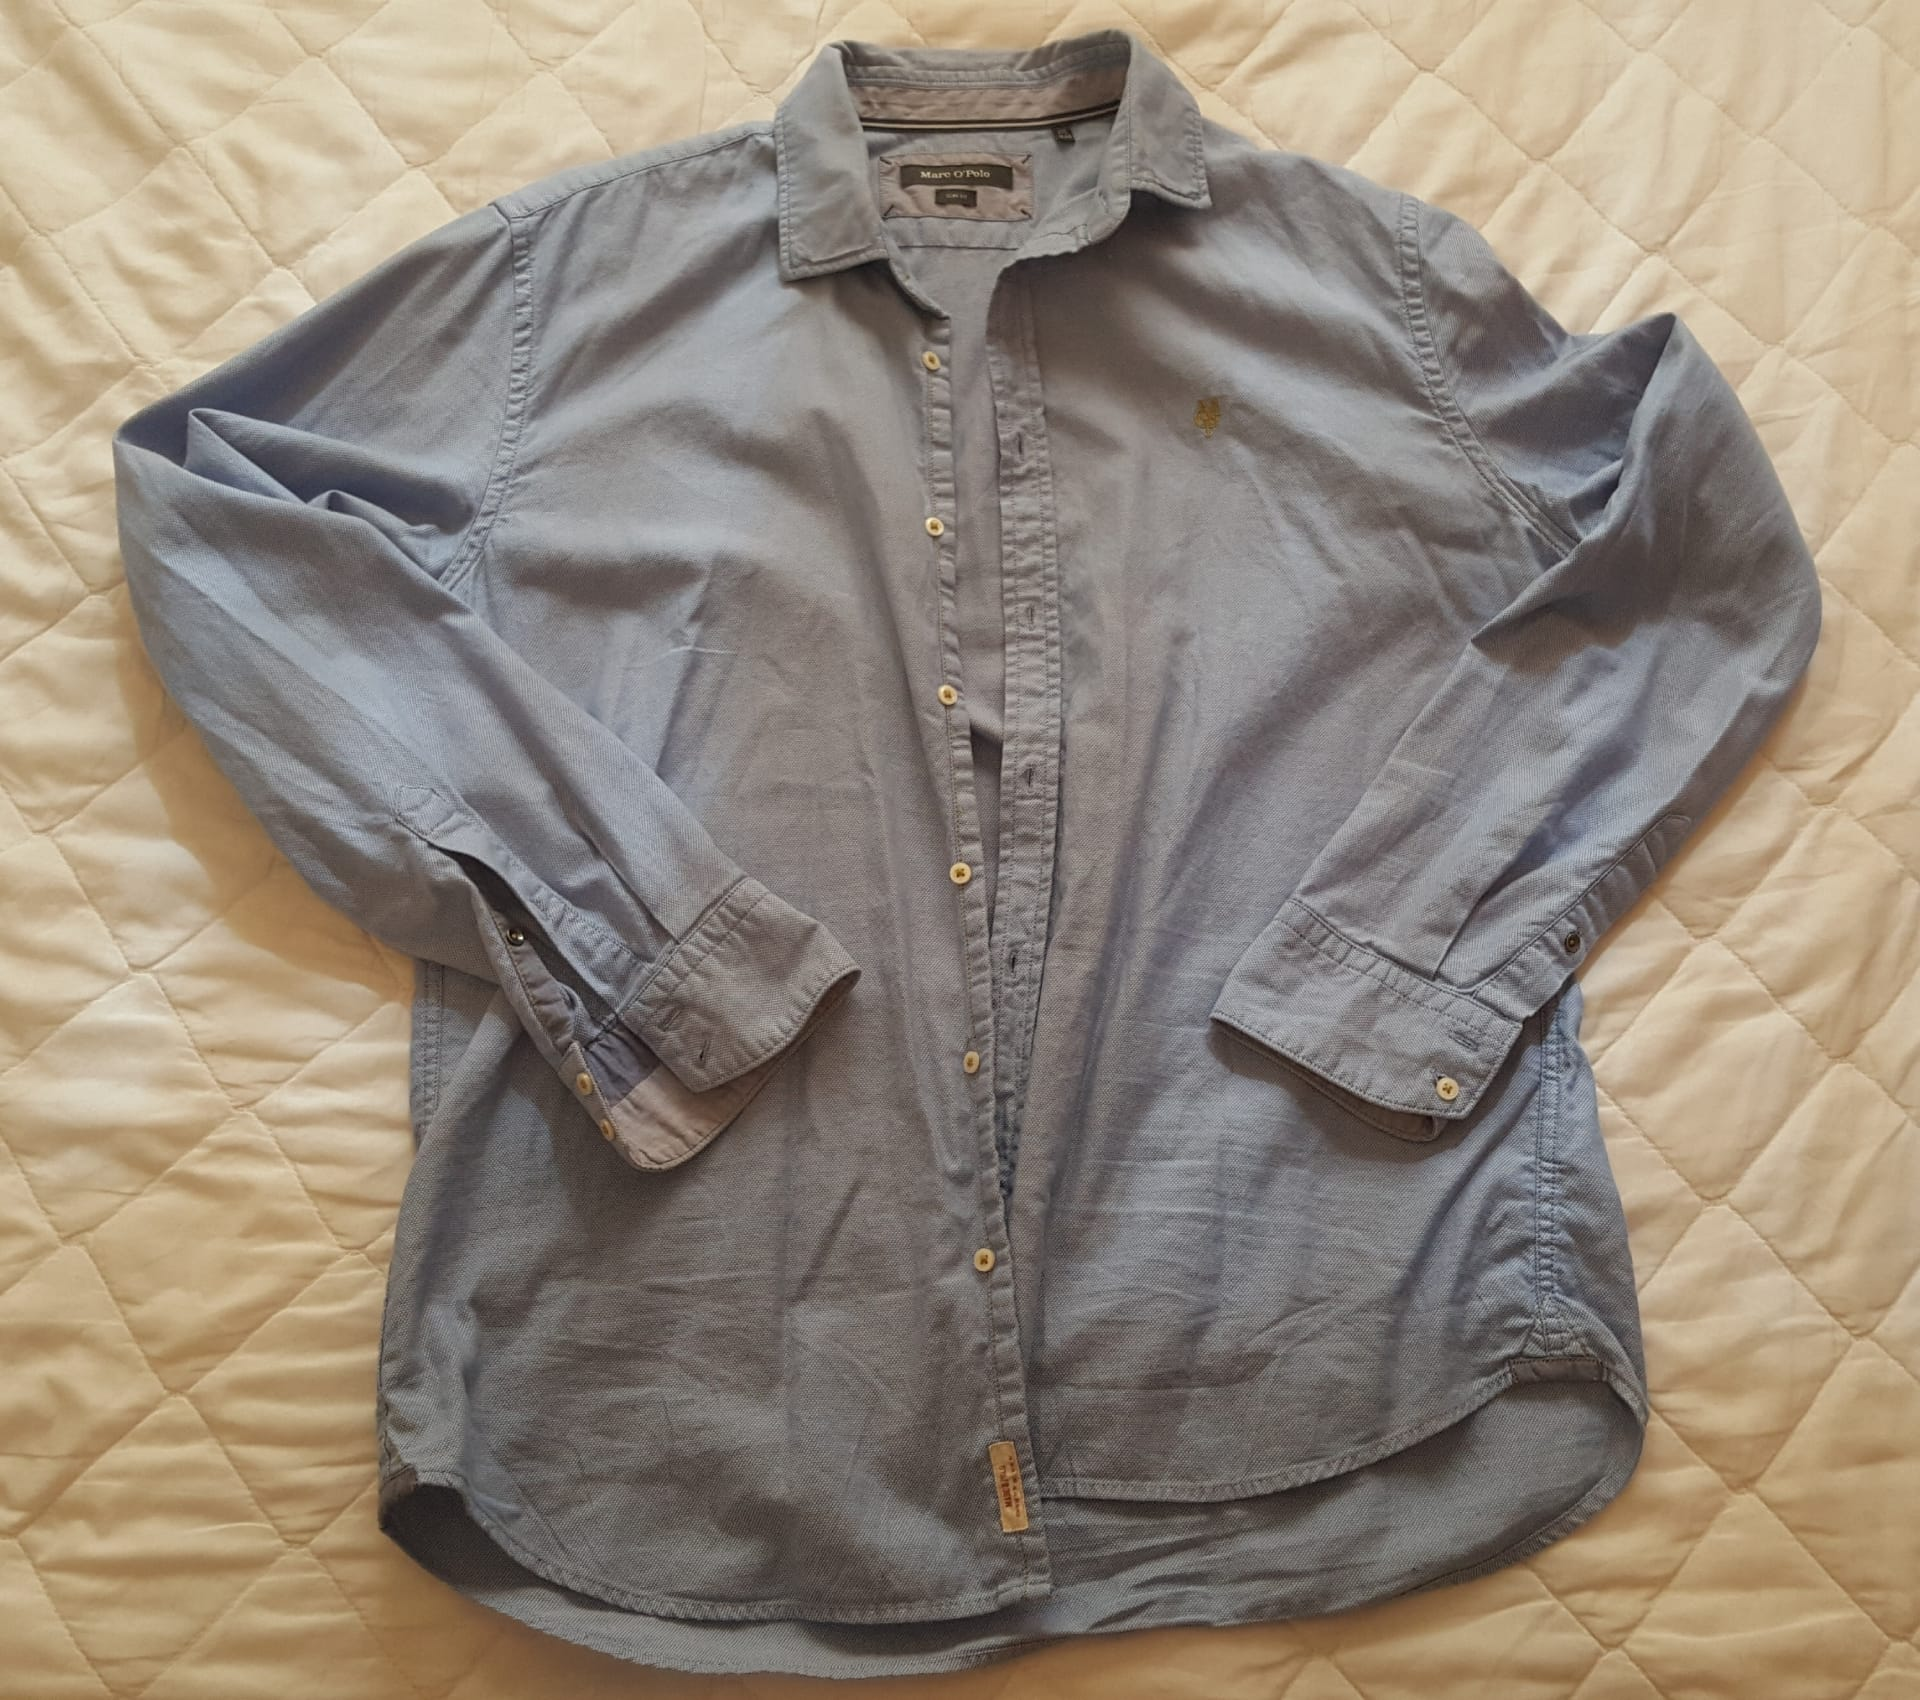clothes: (53, 20, 1854, 1667)
